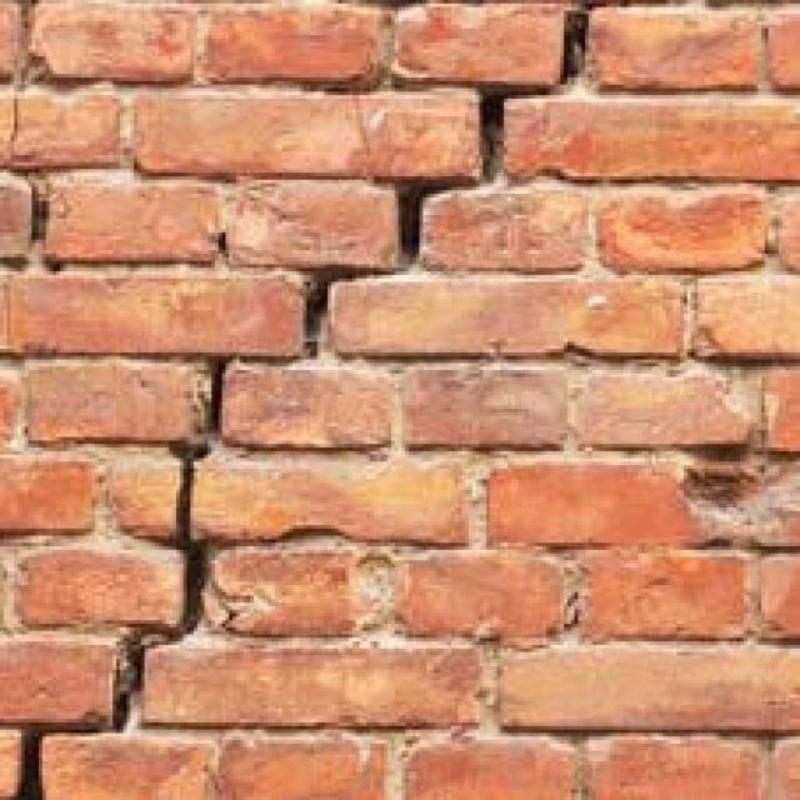crack: (16, 355, 293, 799), (297, 5, 588, 360), (9, 55, 49, 242), (209, 580, 246, 636)
